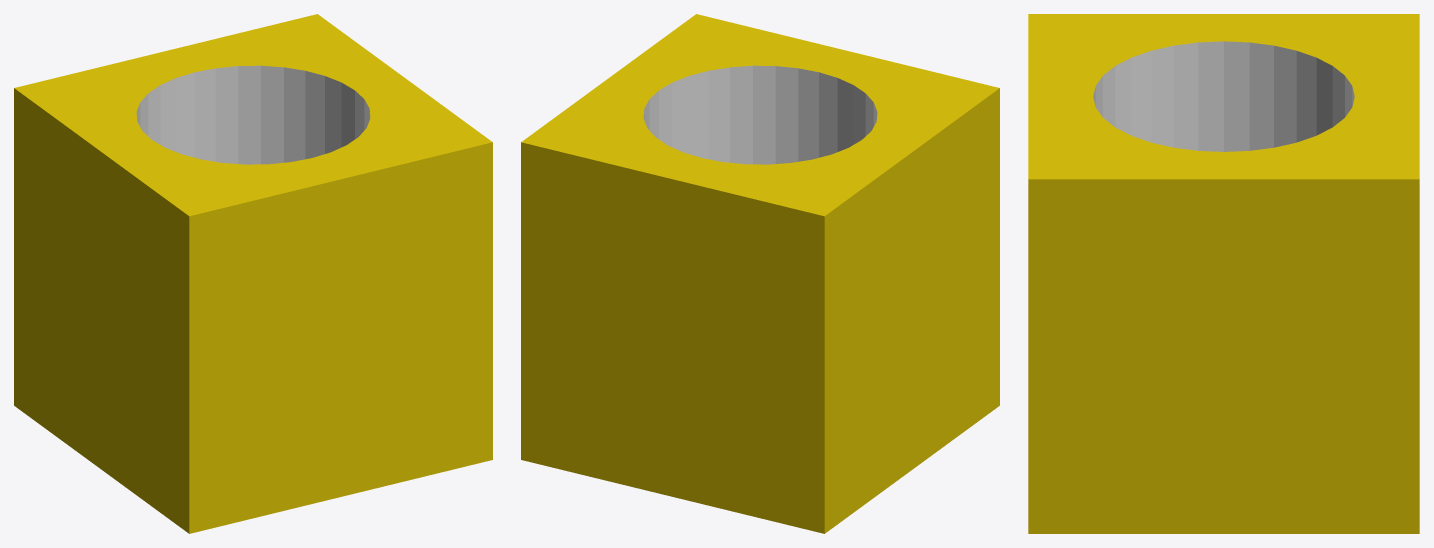
Rendered from PLAT_ESFERA.fbx.
The picture shows the model from 3 angles, left to right: view 1: azimuth 30°, elevation 25°; view 2: azimuth 150°, elevation 25°; view 3: azimuth 270°, elevation 25°; orthographic projection. The views are drawn at different scales.
Visible parts, largest first — view 1: Cube.002; view 2: Cube.002; view 3: Cube.002.
Part boxes in pixels (left/top/right/bottom): Cube.002: left=14, top=14, right=492, bottom=533; Cube.002: left=521, top=14, right=999, bottom=533; Cube.002: left=1028, top=14, right=1419, bottom=533.
Bounding box in the file's own units: 200 × 200 × 200.
